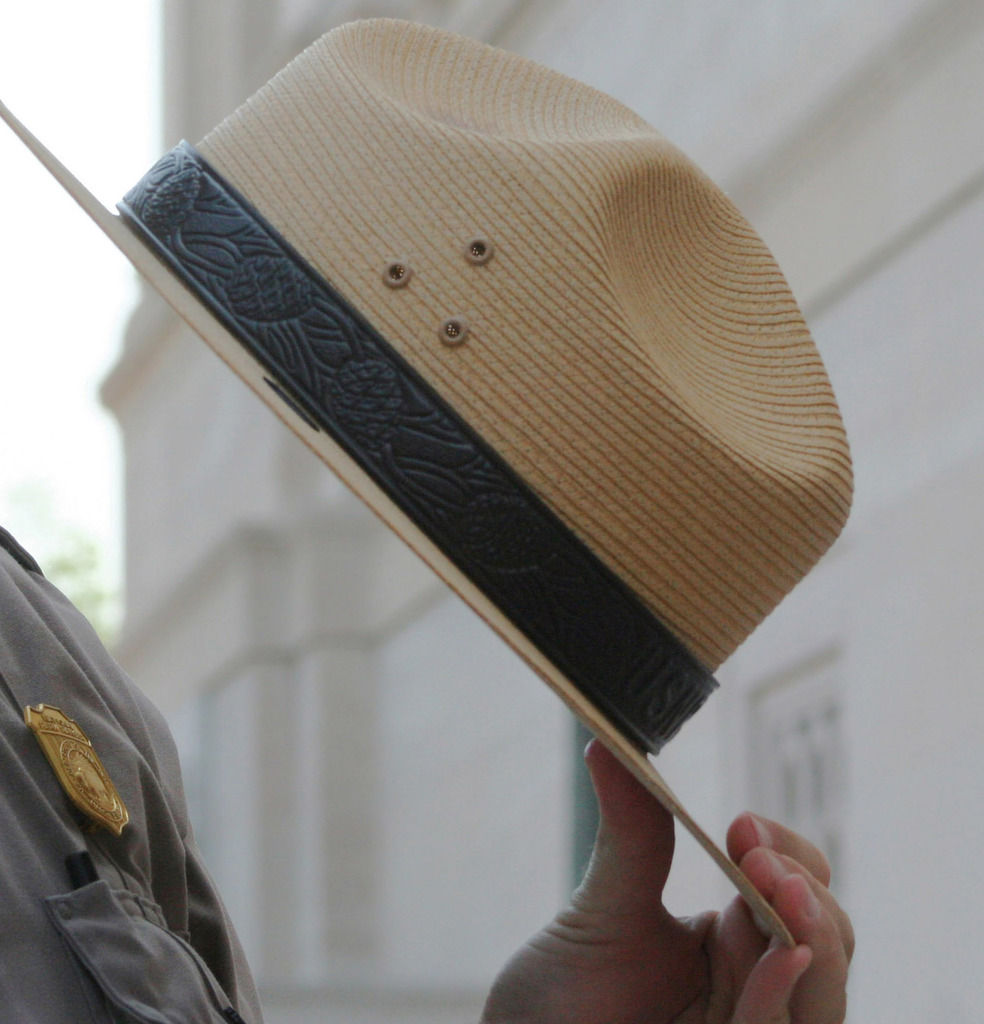Human_hand: (476, 736, 857, 1024)
